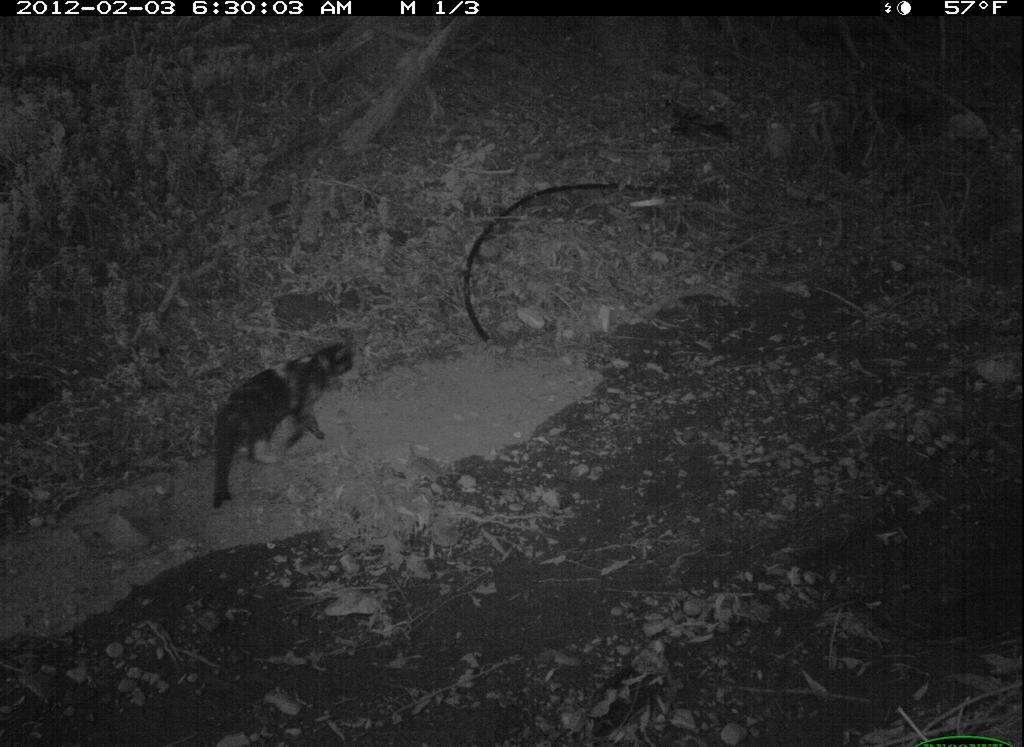cat: (185, 326, 363, 510)
